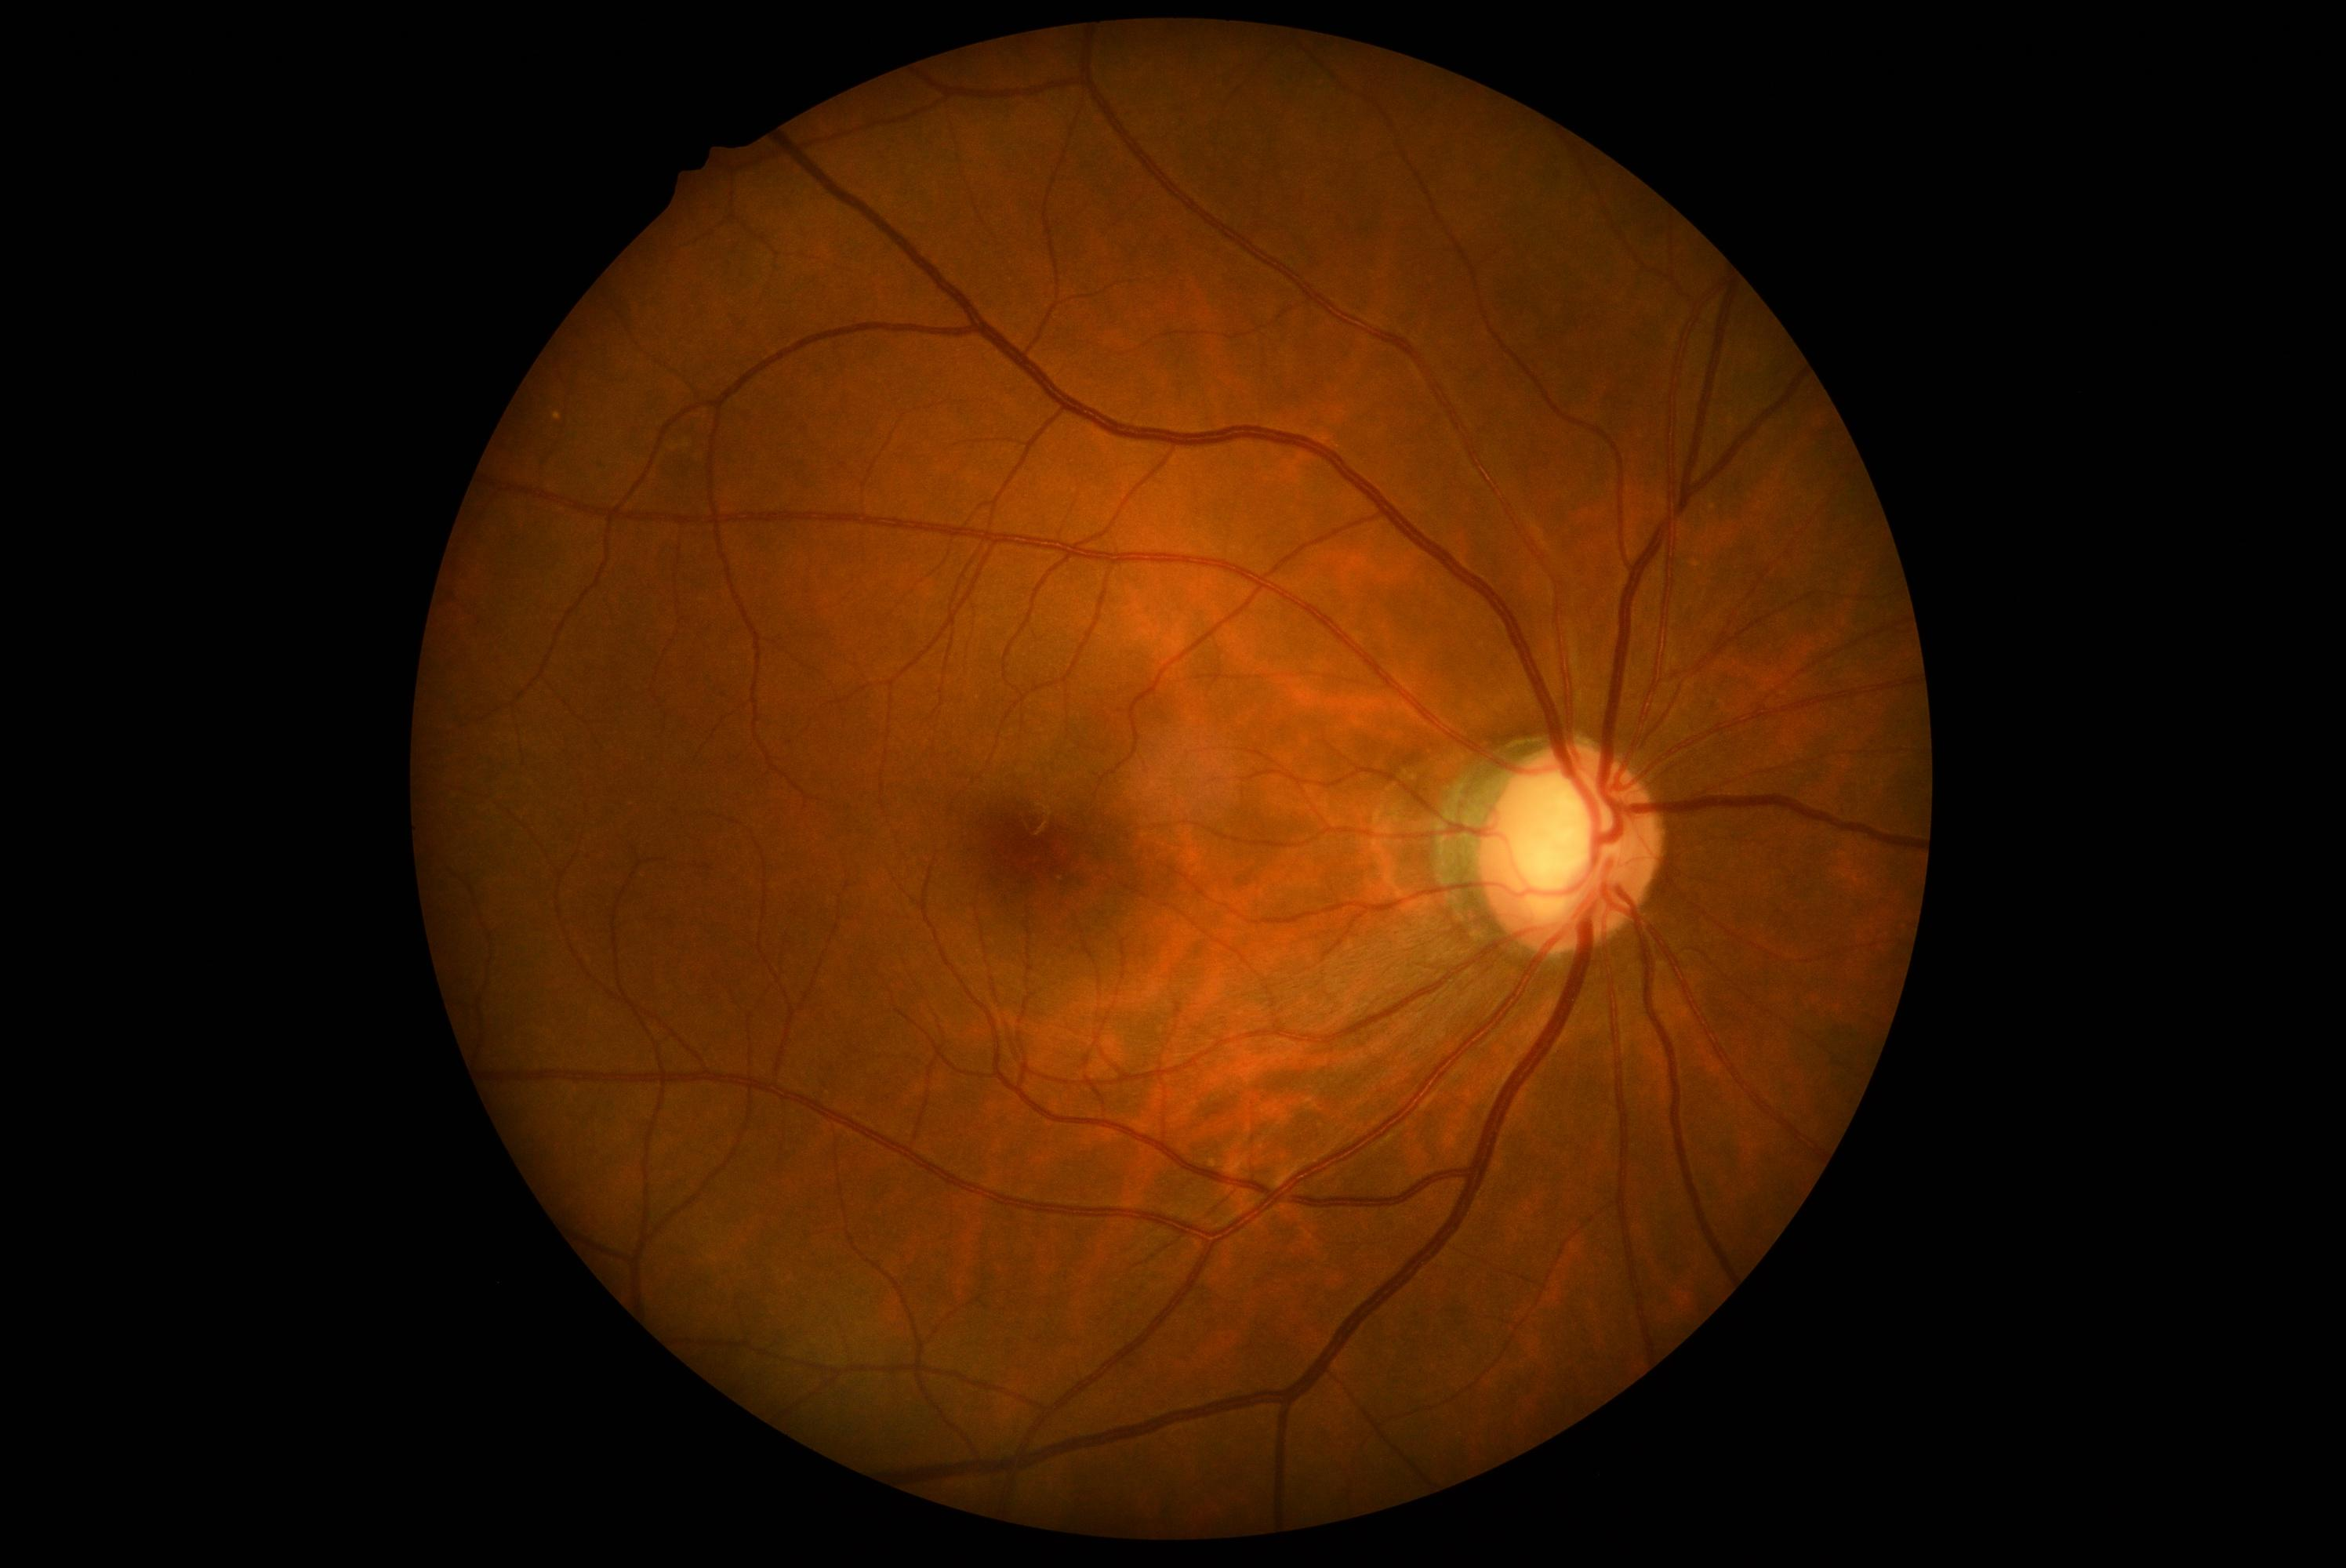Fovea: (969, 782, 1121, 935)
